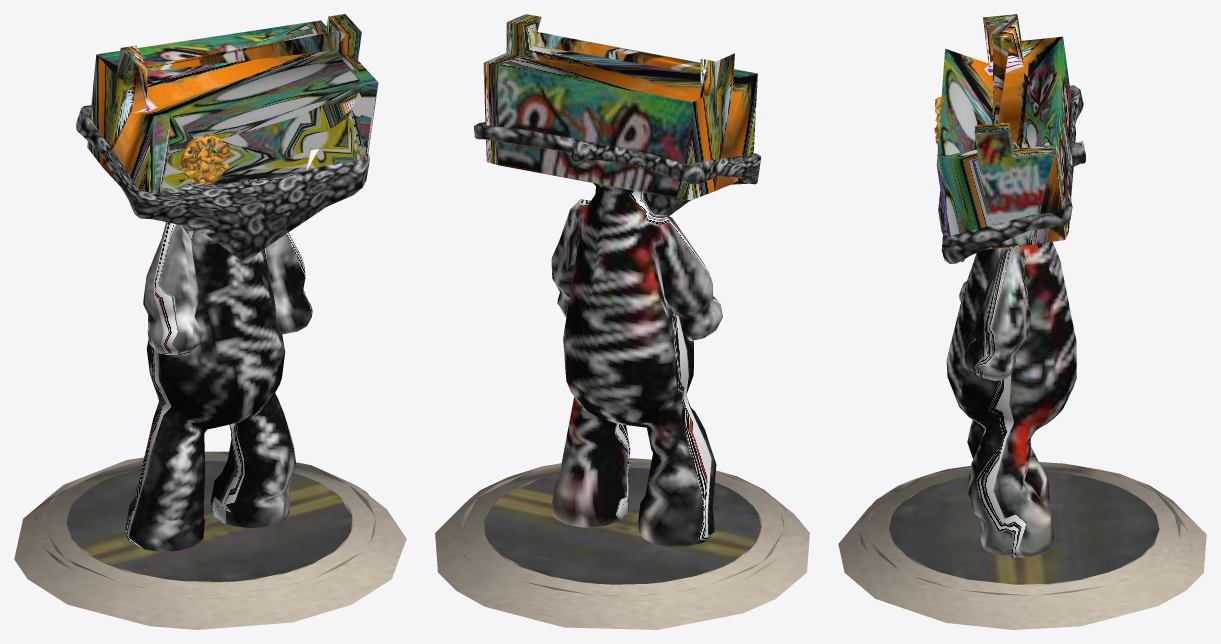
The picture shows the model from 3 angles, left to right: view 1: azimuth 30°, elevation 25°; view 2: azimuth 150°, elevation 25°; view 3: azimuth 270°, elevation 25°; orthographic projection. The views are drawn at different scales.
Size of the model in its own units: 1.44 by 2.11 by 1.43.
Materials: 6 (6 with a texture image).
